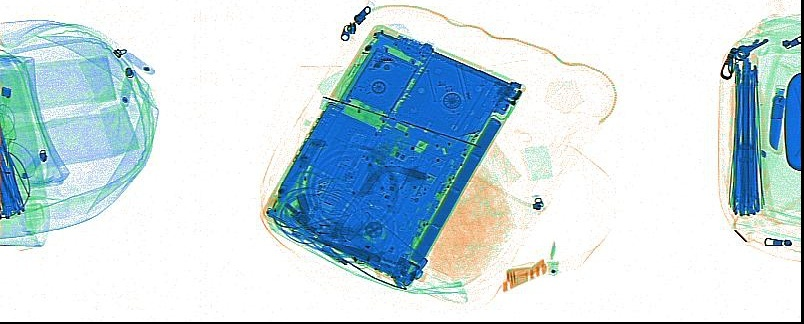knife: (768, 83, 785, 152)
